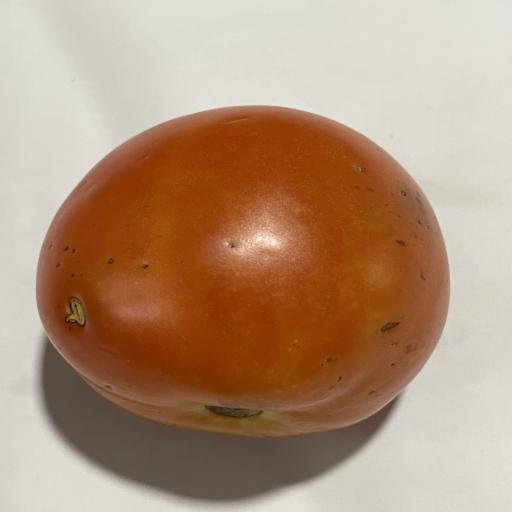ripe: (37, 106, 449, 437)
